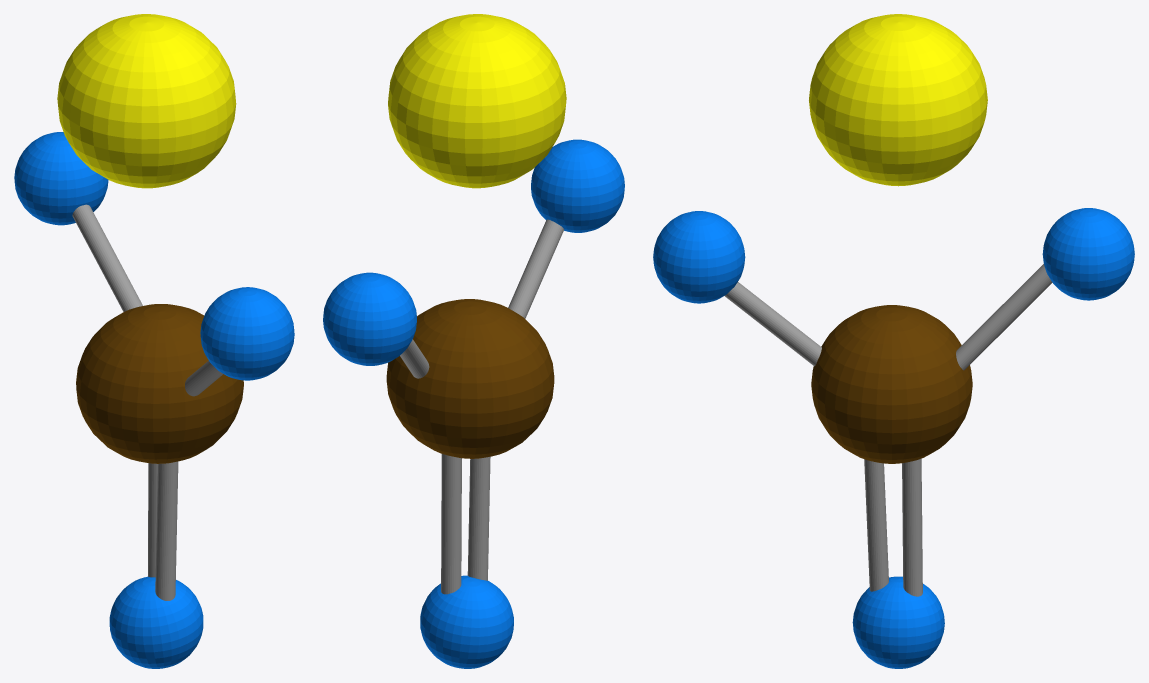
The model's file is agno3.gltf.
3 views of the same model, side by side, from view 1: azimuth 30°, elevation 25°; view 2: azimuth 150°, elevation 25°; view 3: azimuth 270°, elevation 25° (orthographic).
Parts seen in each view (by area): view 1: Sphere.003, Sphere, Sphere.002, Sphere.001, Sphere.004, Cylinder.002, Cylinder.004, Cylinder.001, Cylinder; view 2: Sphere.003, Sphere, Sphere.004, Sphere.002, Sphere.001, Cylinder.001, Cylinder.002, Cylinder, Cylinder.004; view 3: Sphere.003, Sphere, Sphere.002, Sphere.004, Sphere.001, Cylinder.001, Cylinder.002, Cylinder.004, Cylinder.
Part boxes in pixels (box(x1,y1,x2,y2)): Sphere.003: box(57, 14, 236, 188); Sphere: box(76, 304, 243, 463); Sphere.002: box(200, 287, 294, 380); Sphere.001: box(109, 576, 203, 668); Sphere.004: box(14, 132, 108, 225); Cylinder.002: box(155, 461, 178, 600); Cylinder.004: box(72, 204, 142, 311); Cylinder.001: box(148, 463, 157, 577); Cylinder: box(185, 360, 223, 396); Sphere.003: box(388, 14, 566, 188); Sphere: box(386, 299, 554, 458); Sphere.004: box(323, 272, 416, 365); Sphere.002: box(531, 139, 624, 232); Sphere.001: box(420, 575, 513, 668); Cylinder.001: box(441, 454, 461, 594); Cylinder.002: box(467, 456, 490, 580); Cylinder: box(508, 219, 564, 318); Cylinder.004: box(400, 339, 429, 378); Sphere.003: box(809, 14, 987, 186); Sphere: box(811, 305, 972, 463); Sphere.002: box(653, 211, 745, 303); Sphere.004: box(1042, 208, 1134, 300); Sphere.001: box(852, 576, 944, 668); Cylinder.001: box(902, 458, 922, 596); Cylinder.002: box(864, 459, 888, 591); Cylinder.004: box(956, 264, 1052, 370); Cylinder: box(724, 282, 821, 366).
Bounding box in the file's own units: 5.09 × 19.49 × 13.35.
